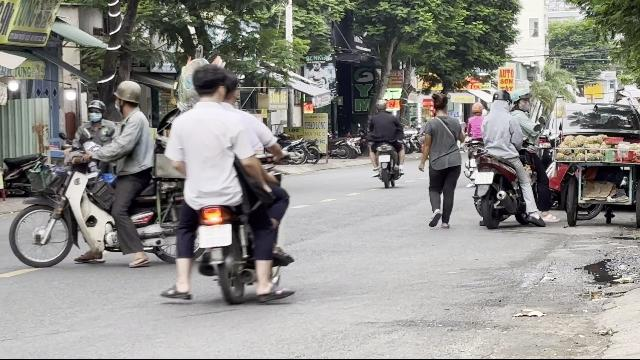helmet: (113, 80, 141, 114), (508, 87, 532, 111), (490, 88, 508, 110), (86, 100, 104, 122)
licenseplate: (198, 224, 232, 248), (474, 172, 494, 184)
motorcyclist: (157, 56, 296, 304), (54, 80, 170, 272), (469, 84, 538, 228)
nohelmet: (192, 64, 230, 114)
